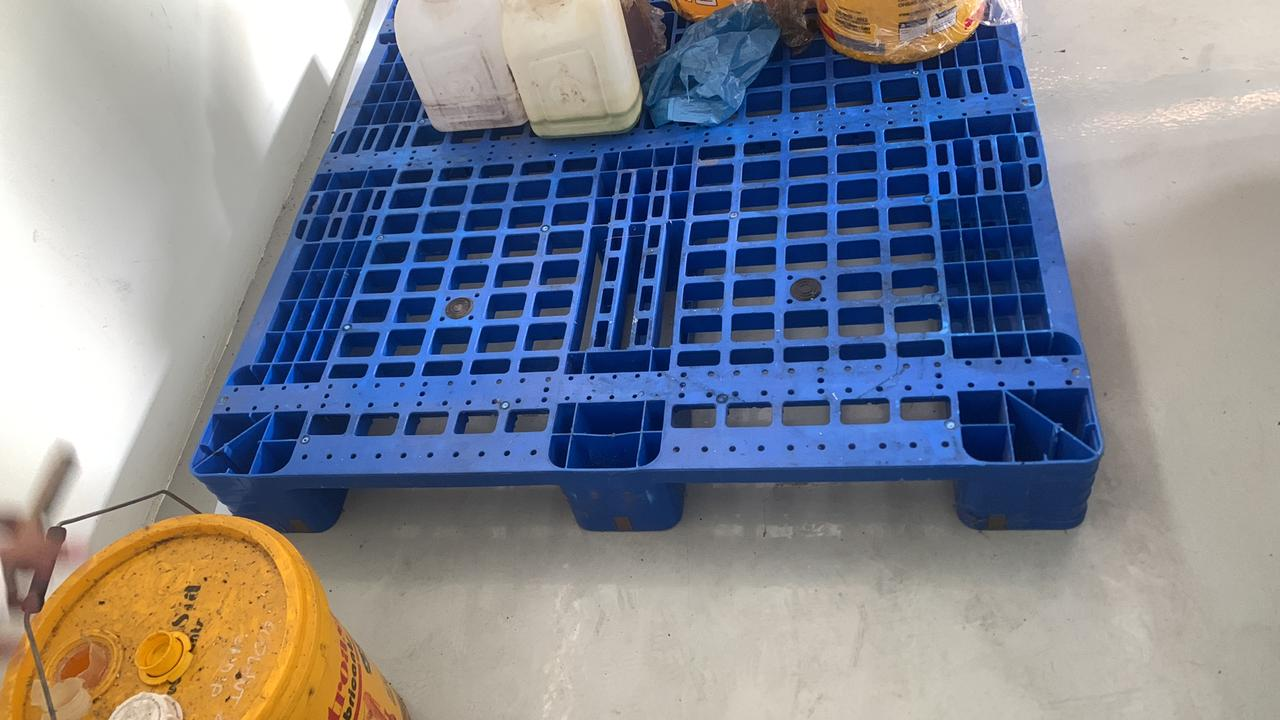block: (964, 462, 1101, 527), (194, 470, 330, 534), (550, 467, 682, 532)
front: (199, 457, 1102, 532)
hole pallet: (301, 482, 571, 531), (661, 480, 954, 524)
